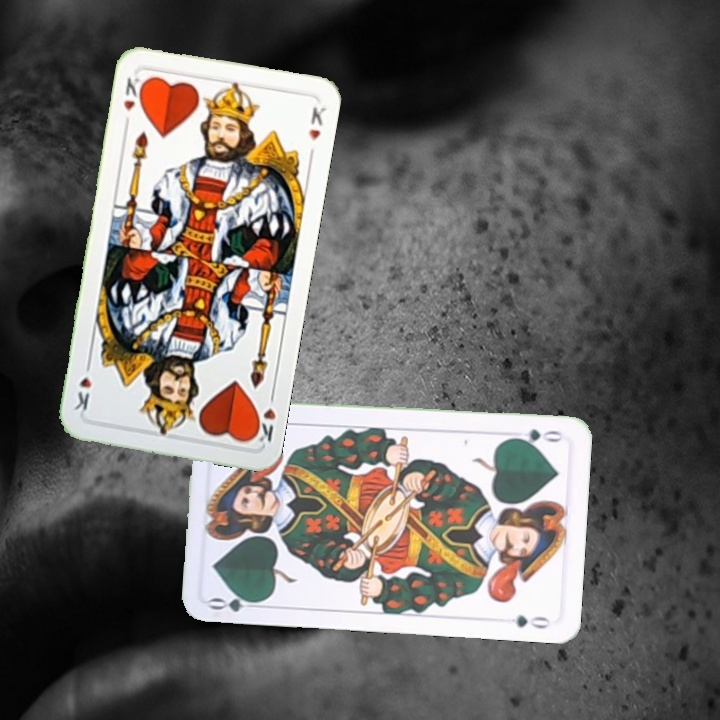GO: (206, 588, 265, 615), (507, 424, 566, 448)
HK: (248, 387, 279, 445), (119, 73, 147, 129)
